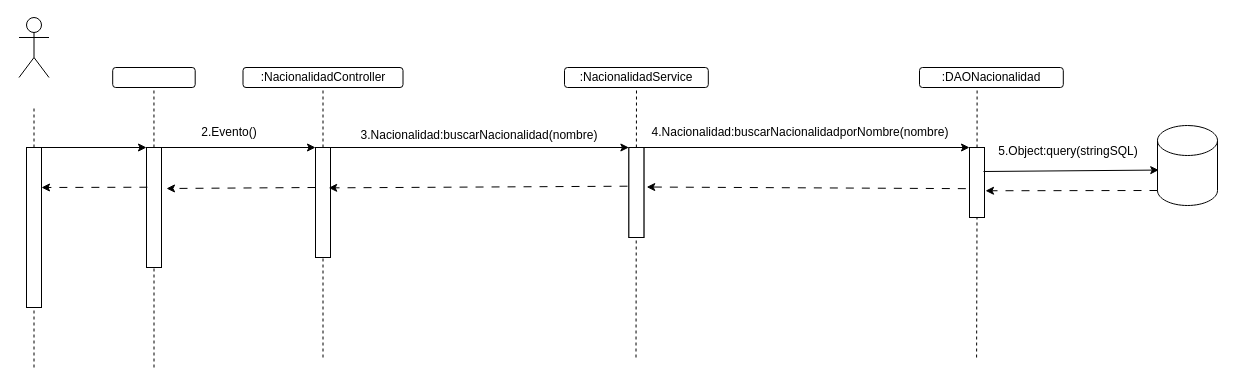
This 1235x386 diagram has some shape labels left out. Each missing label, with the centre of its shape:
"Admin" goes at point (33, 47).
"Interfaz UI" goes at point (153, 77).
